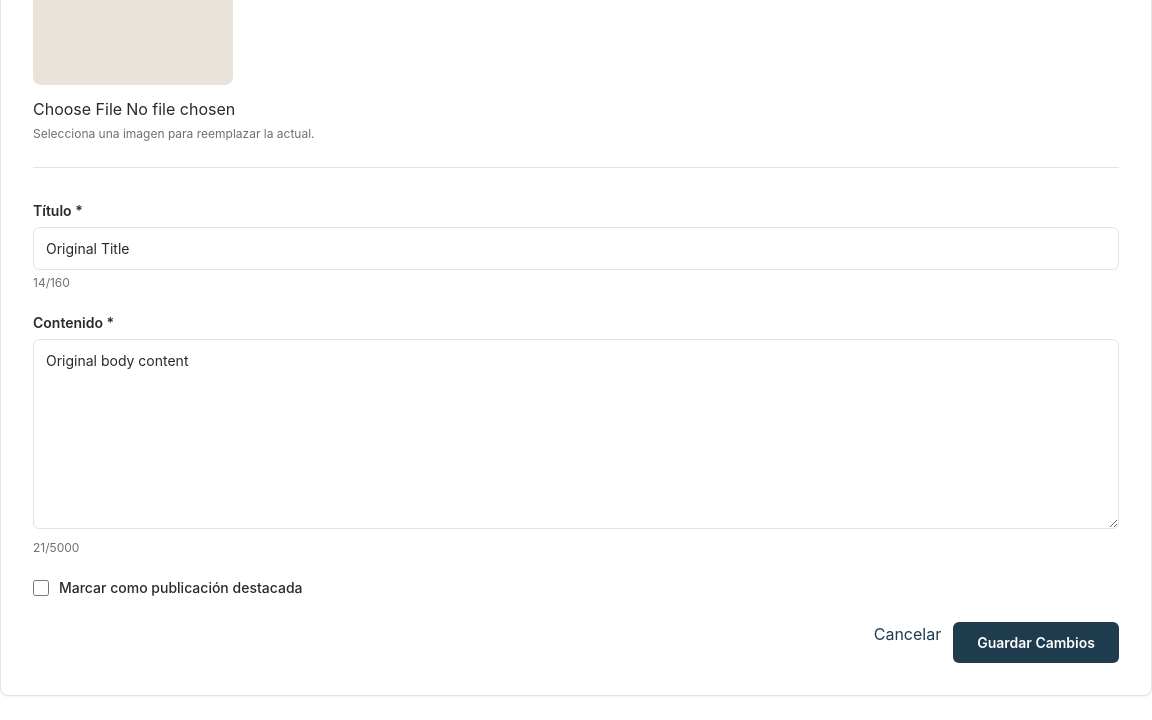
Test: EditPostForm — with post › shows validation error when body is cleared
(page scrolled)
Clear the text box labelled "Contenido *": (576, 434) [33, 339, 1119, 529]
(page scrolled)
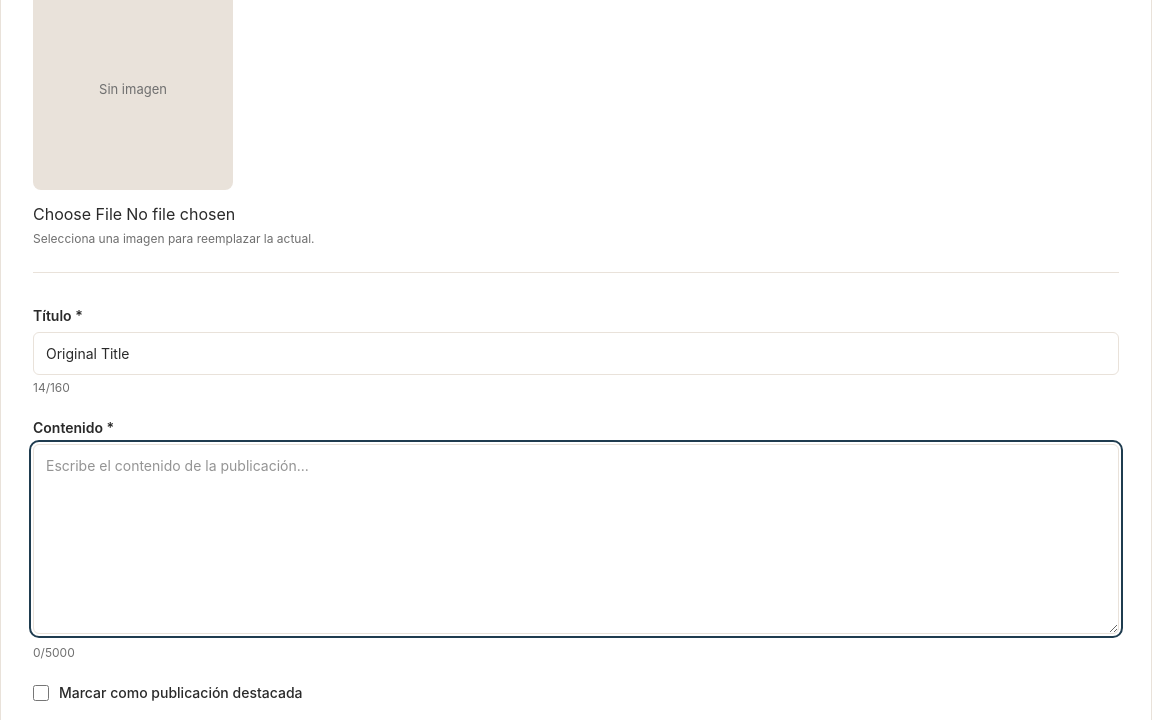
Submit the form named "guardar cambios"
(page scrolled)
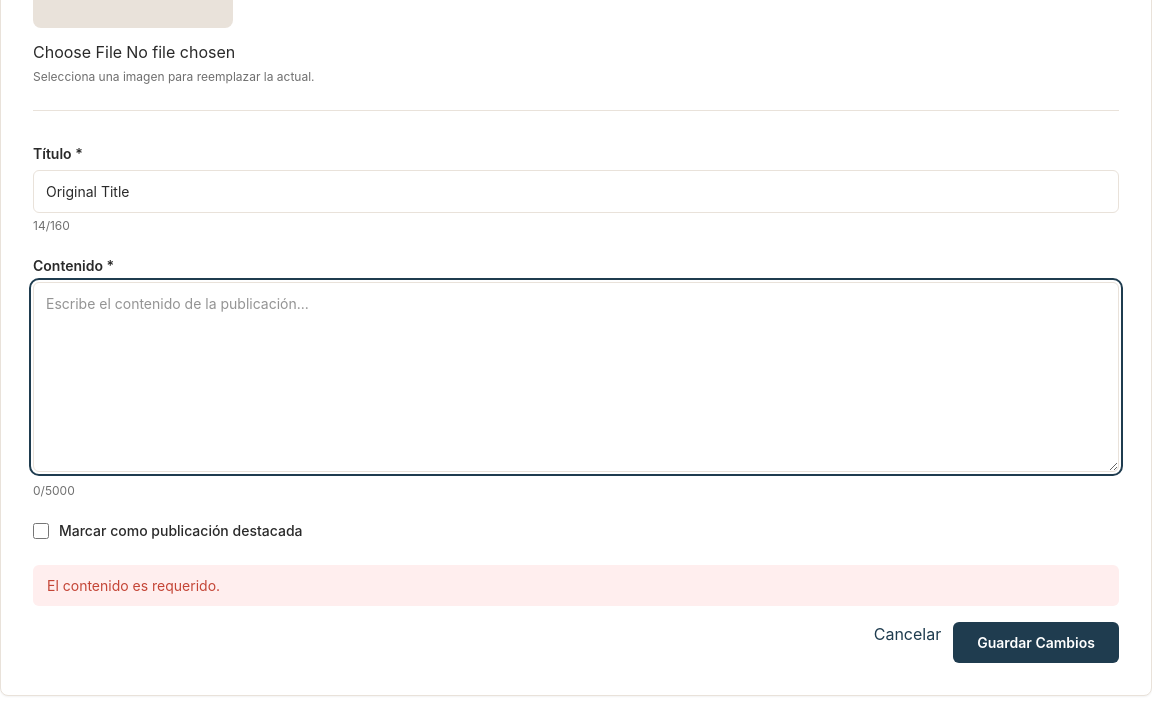
Result: the text "El contenido es requerido." is shown at [33, 565, 1119, 606]
